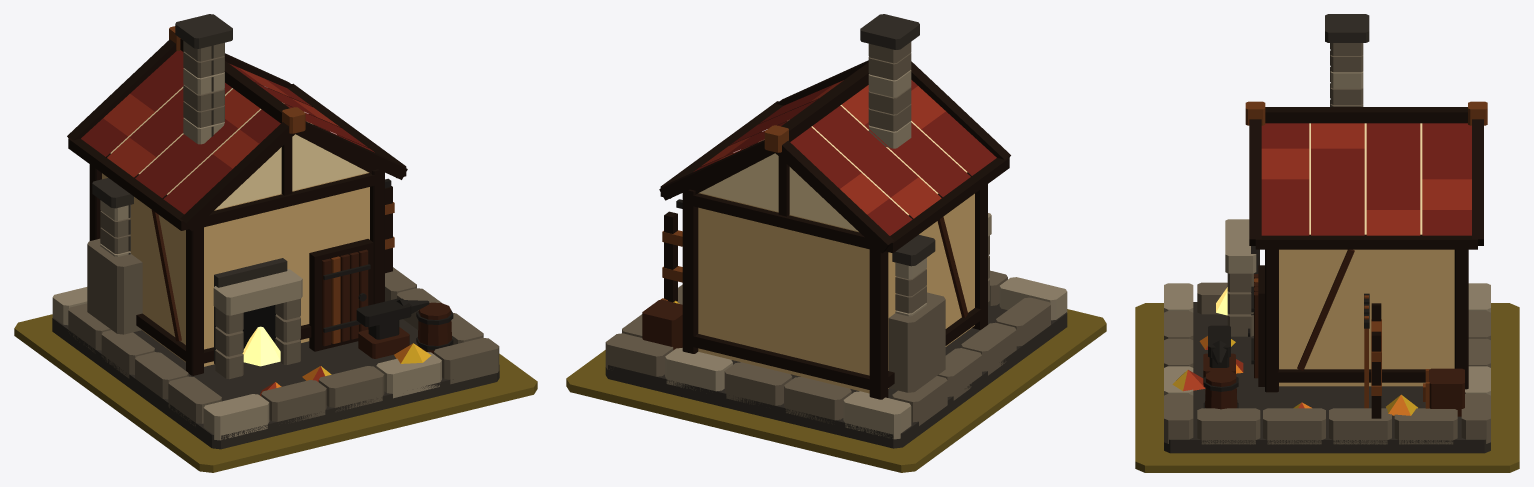
The model's file is forge_t3.glb.
3 renders of one model, left to right at view 1: azimuth 30°, elevation 25°; view 2: azimuth 150°, elevation 25°; view 3: azimuth 270°, elevation 25°, orthographic. The views are drawn at different scales.
Visible parts, largest first — view 1: MMR | forge | T03 Architecture.001, MMR | forge | Tier 03 Ground.001, MMR | forge | T03 Flame Glow.001, MMR | forge | T03 Autumn Dressing.001; view 2: MMR | forge | T03 Architecture.001, MMR | forge | Tier 03 Ground.001; view 3: MMR | forge | T03 Architecture.001, MMR | forge | Tier 03 Ground.001, MMR | forge | T03 Autumn Dressing.001.
Boxes of the visible parts, <box> form: MMR | forge | T03 Architecture.001: <box>52,14,499,449</box>; MMR | forge | Tier 03 Ground.001: <box>14,314,537,472</box>; MMR | forge | T03 Flame Glow.001: <box>242,326,280,366</box>; MMR | forge | T03 Autumn Dressing.001: <box>260,343,431,395</box>; MMR | forge | T03 Architecture.001: <box>605,14,1067,448</box>; MMR | forge | Tier 03 Ground.001: <box>566,309,1106,472</box>; MMR | forge | T03 Architecture.001: <box>1164,14,1490,453</box>; MMR | forge | Tier 03 Ground.001: <box>1135,303,1519,472</box>; MMR | forge | T03 Autumn Dressing.001: <box>1172,336,1417,415</box>.
Bounding box in the file's own units: 2.35 × 2.28 × 2.35.
2 materials, 1 textured.
